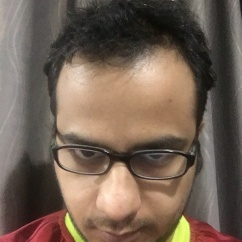glasses: (52, 139, 196, 182)
